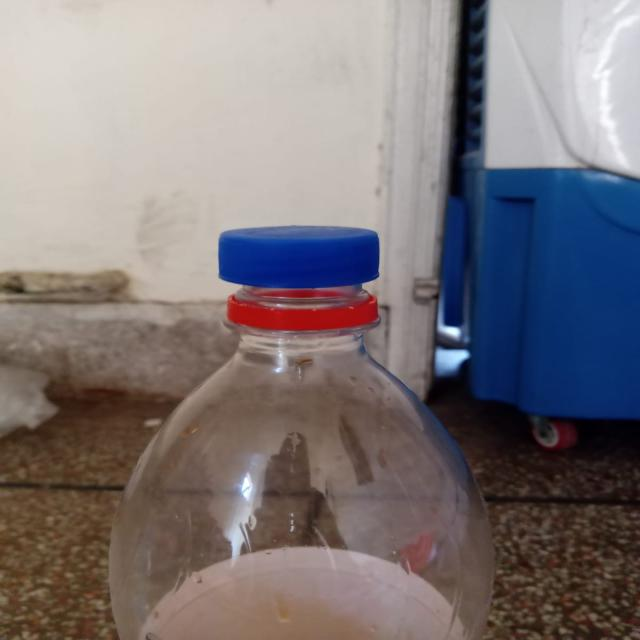bottle: (94, 214, 522, 640)
cap: (198, 212, 408, 355)
